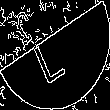L_NW: (35, 25, 75, 85)
